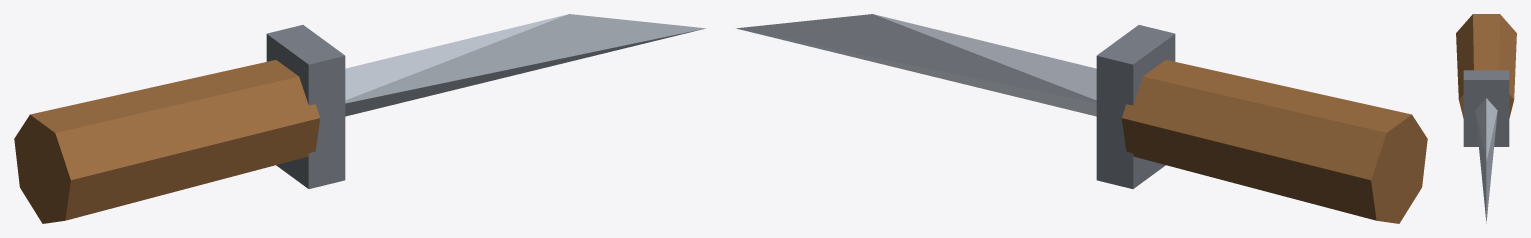
File: drop_knife.glb
3 views of the same model, side by side, from view 1: azimuth 30°, elevation 25°; view 2: azimuth 150°, elevation 25°; view 3: azimuth 270°, elevation 25° (orthographic). The views are drawn at different scales.
Parts seen in each view (by area): view 1: drop_knife; view 2: drop_knife; view 3: drop_knife.
Boxes of the visible parts, bbox=[...] form: drop_knife: bbox=[14, 14, 705, 223]; drop_knife: bbox=[736, 14, 1427, 223]; drop_knife: bbox=[1456, 14, 1516, 223].
Bounding box in the file's own units: 0.29 × 0.052 × 0.0429.
